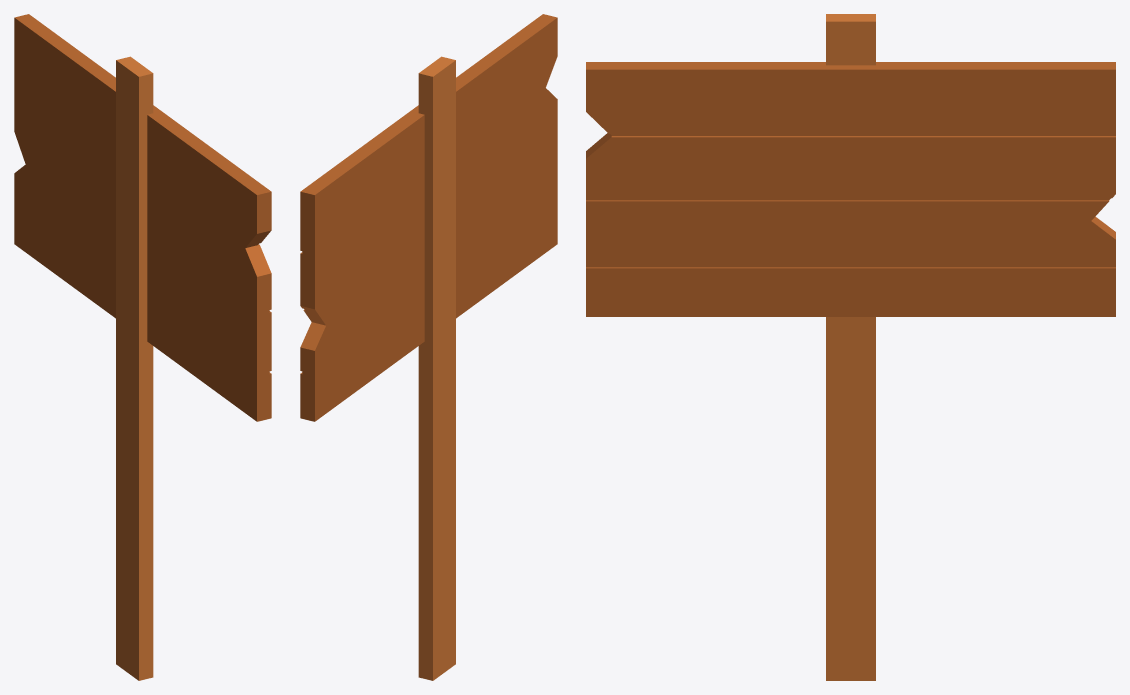
Rendered from kanban.fbx.
3 renders of one model, left to right at view 1: azimuth 30°, elevation 25°; view 2: azimuth 150°, elevation 25°; view 3: azimuth 270°, elevation 25°, orthographic. The views are drawn at different scales.
Visible parts, largest first — view 1: Cube, Cube.001; view 2: Cube, Cube.001; view 3: Cube, Cube.001.
Boxes of the visible parts, bbox=[...] form: Cube: bbox=[14, 14, 271, 421]; Cube.001: bbox=[116, 56, 153, 680]; Cube: bbox=[300, 14, 557, 421]; Cube.001: bbox=[418, 56, 455, 680]; Cube: bbox=[586, 62, 1115, 316]; Cube.001: bbox=[826, 14, 875, 680].
Bounding box in the file's own units: 21.06 × 533 × 388.
